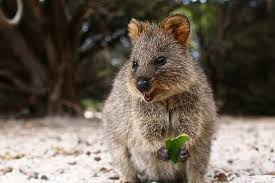quokka: (103, 17, 225, 183)
